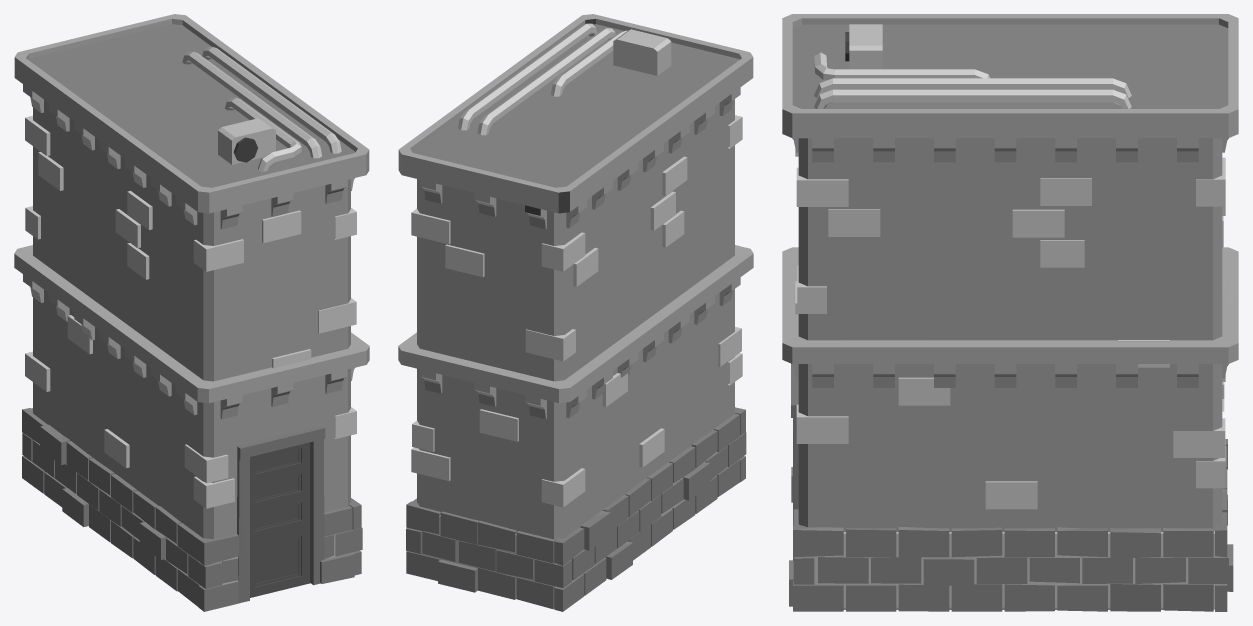
Rendered from qtb_2story_slim.fbx.
3 renders of one model, left to right at view 1: azimuth 30°, elevation 25°; view 2: azimuth 150°, elevation 25°; view 3: azimuth 270°, elevation 25°, orthographic. The views are drawn at different scales.
Parts seen in each view (by area): view 1: qtb_2story_slim_LOD0; view 2: qtb_2story_slim_LOD0; view 3: qtb_2story_slim_LOD0.
Part boxes in pixels (bbox=[...]): qtb_2story_slim_LOD0: bbox=[14, 14, 369, 611]; qtb_2story_slim_LOD0: bbox=[398, 14, 753, 611]; qtb_2story_slim_LOD0: bbox=[782, 14, 1238, 611].
Size of what is drawn, in the model's own units: 3.01 by 7.44 by 5.82.
